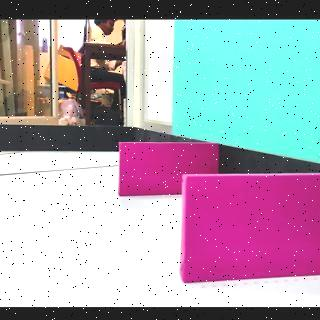xparking: (183, 176, 307, 279), (121, 144, 182, 196)
